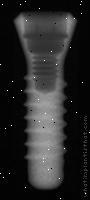Straumann ITI: (0, 8, 79, 192)
